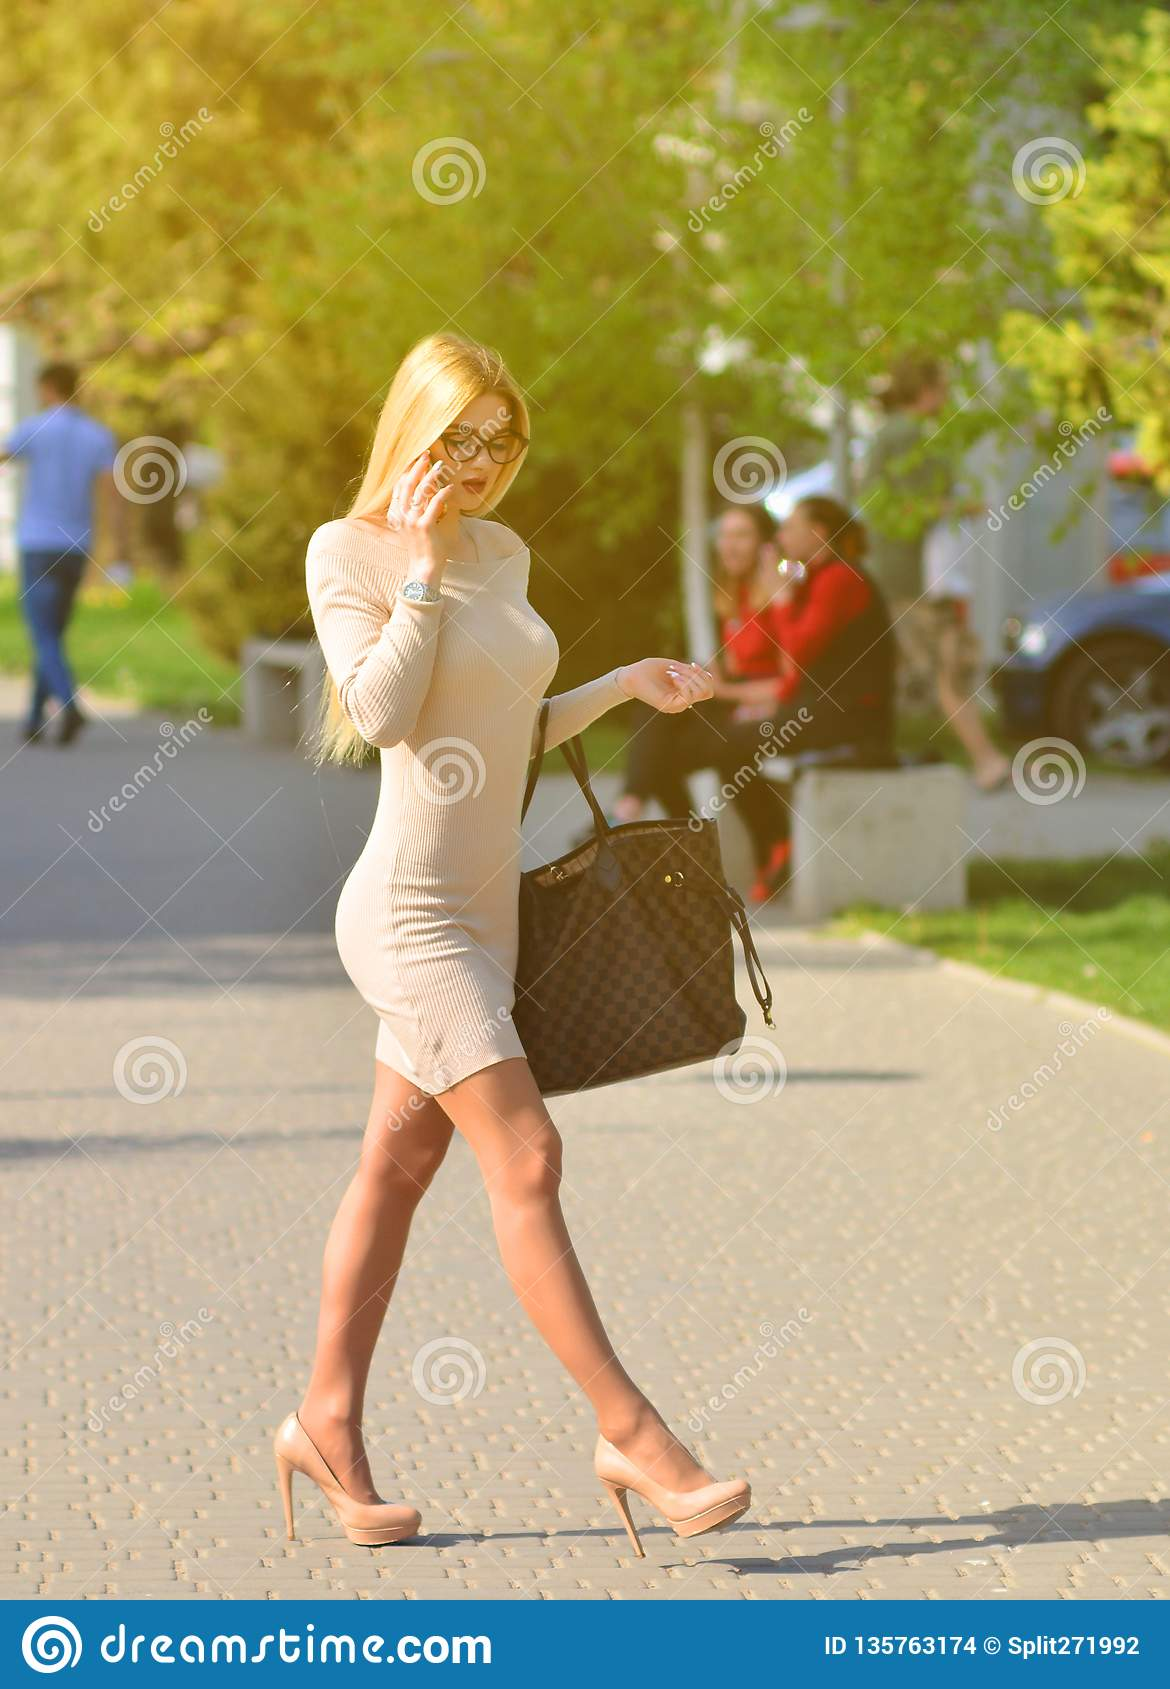phone: (414, 444, 446, 527)
talk: (384, 416, 513, 574)
